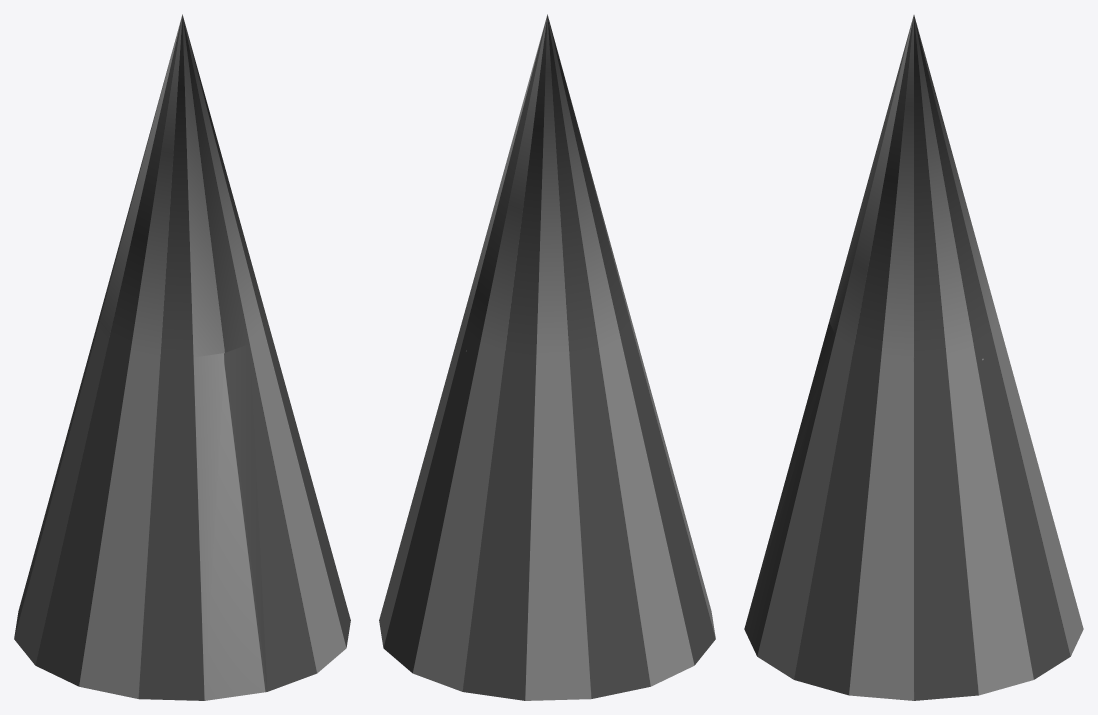
Rendered from spike.glb.
3 renders of one model, left to right at view 1: azimuth 30°, elevation 25°; view 2: azimuth 150°, elevation 25°; view 3: azimuth 270°, elevation 25°, orthographic.
Visible parts, largest first — view 1: SpikeSurface; view 2: SpikeSurface; view 3: SpikeSurface.
Part boxes in pixels (x1,y1,x2,y2): SpikeSurface: (14, 14, 350, 700); SpikeSurface: (379, 14, 715, 700); SpikeSurface: (744, 15, 1083, 700).
Bounding box in the file's own units: 1 × 2 × 1.
1 material, 1 textured.
